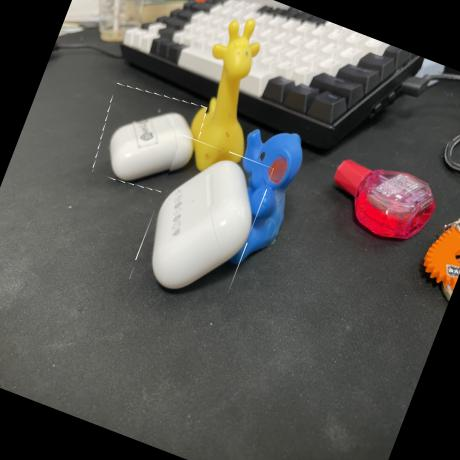airpod2: (86, 78, 213, 204)
airpod3: (127, 135, 275, 314)
